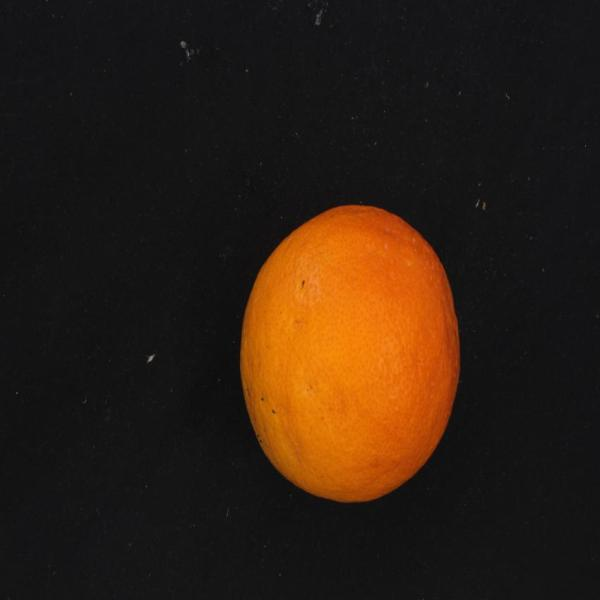Moho verde: (231, 194, 464, 510)
